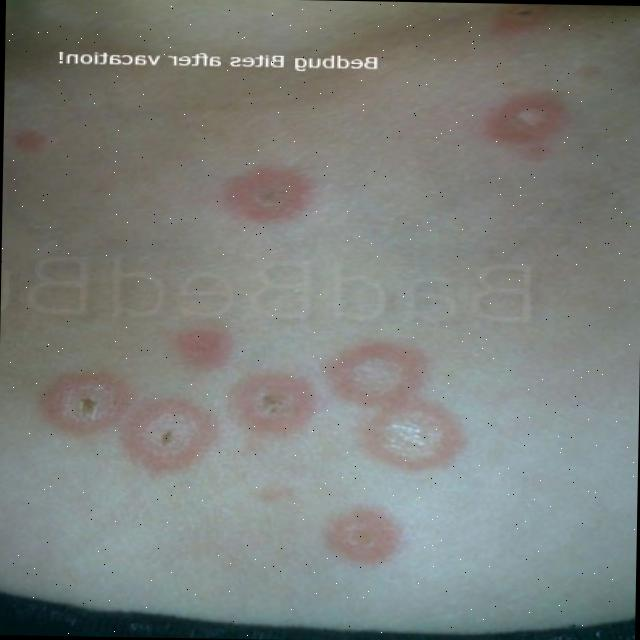kan emici bocekler: (347, 387, 484, 478), (113, 384, 229, 482), (209, 151, 334, 233), (322, 331, 439, 418), (477, 81, 589, 166), (35, 359, 147, 444), (218, 363, 334, 445), (316, 496, 419, 571), (153, 317, 254, 384)
